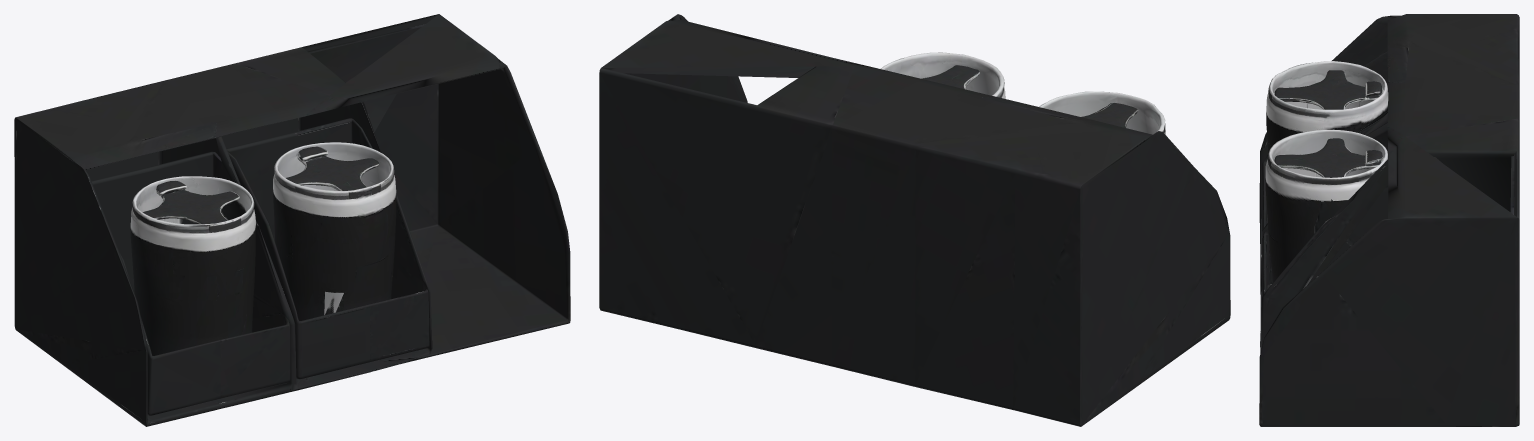
Rendered from DEMO-P038.glb.
3 renders of one model, left to right at view 1: azimuth 30°, elevation 25°; view 2: azimuth 150°, elevation 25°; view 3: azimuth 270°, elevation 25°, orthographic. The views are drawn at different scales.
Bounding box in the file's own units: 1 × 0.4859 × 0.5427.
Materials: 1 (1 with a texture image).
